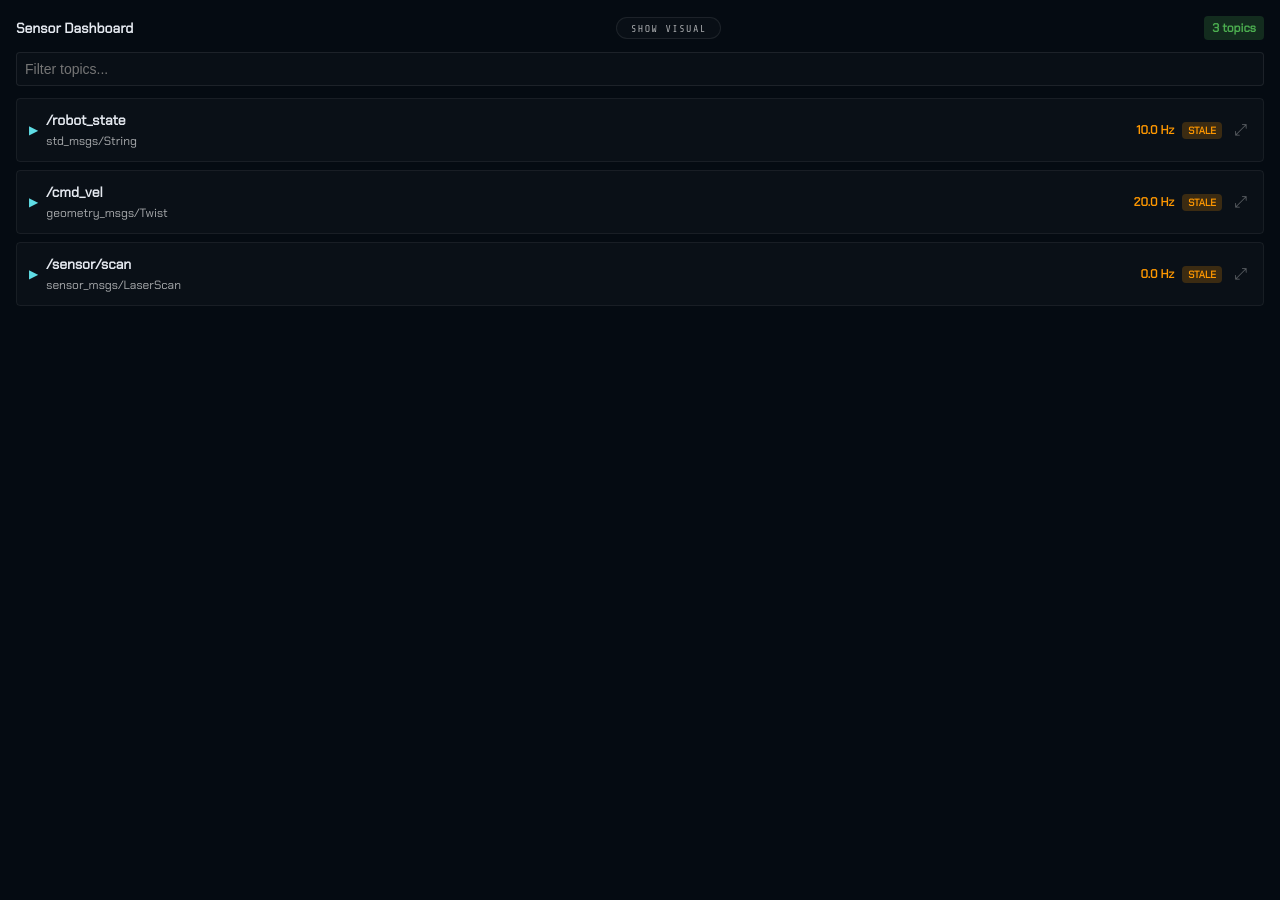
Test: TopicInspector › opens a full-view modal from the expand button and closes it
The image size is (1280, 900).
Click the button named "Expand /robot_state in full view" at (1241, 130), box [1230,120,1251,140]
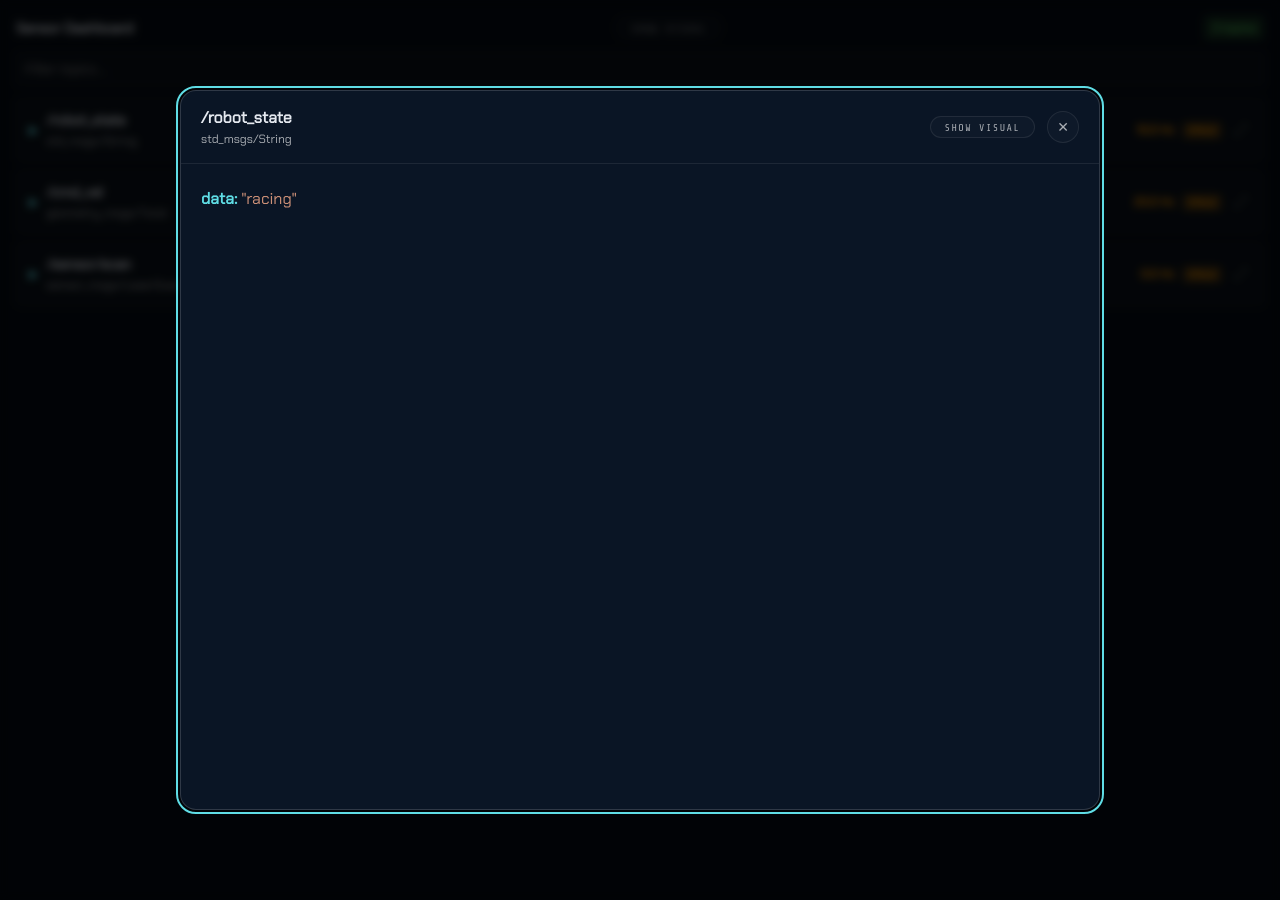
Expected: the dialog "/robot_state" is shown, [180,90,1100,810]
Click the button named "Close" at (1063, 127), box [1047,111,1079,143]
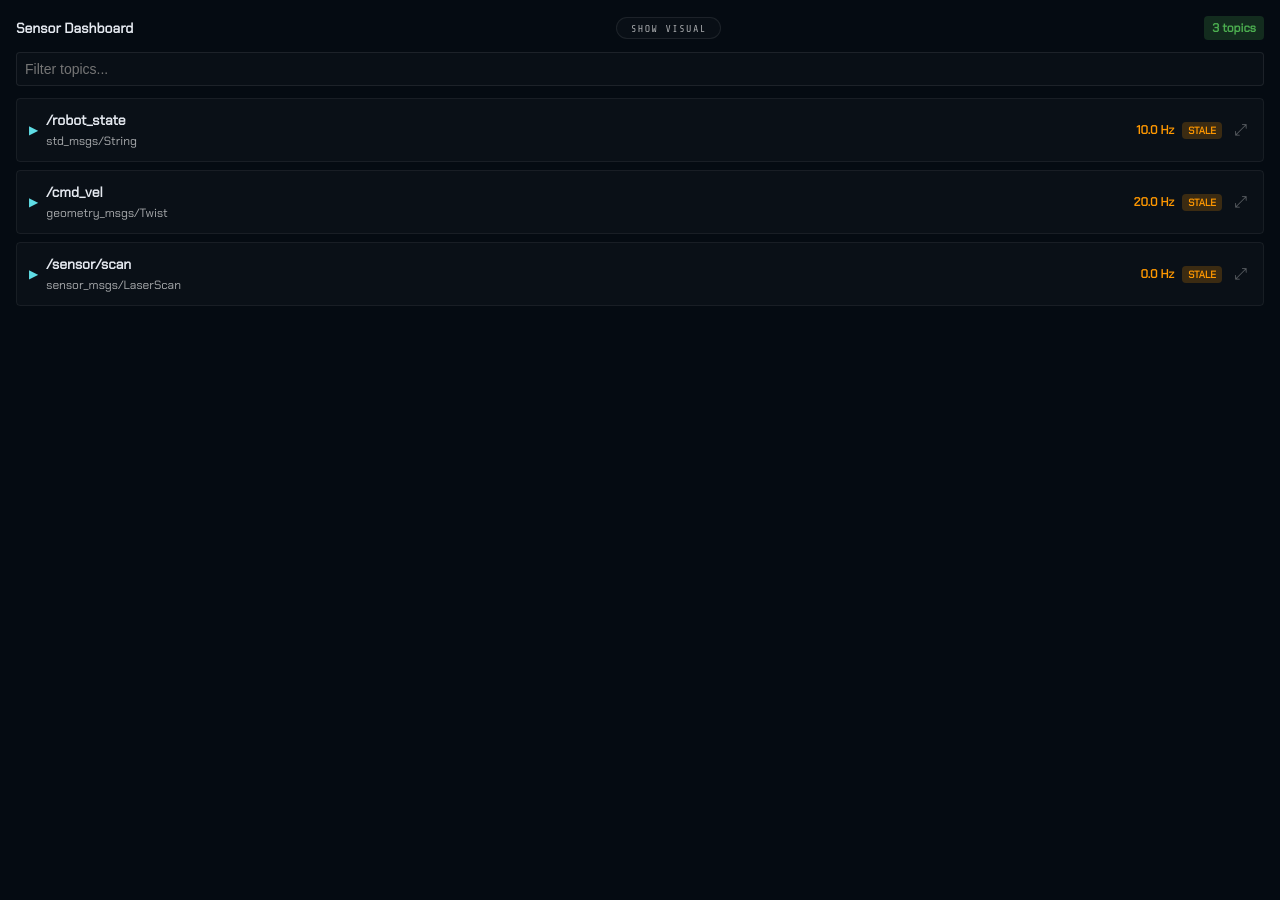
Expected: the dialog is gone
